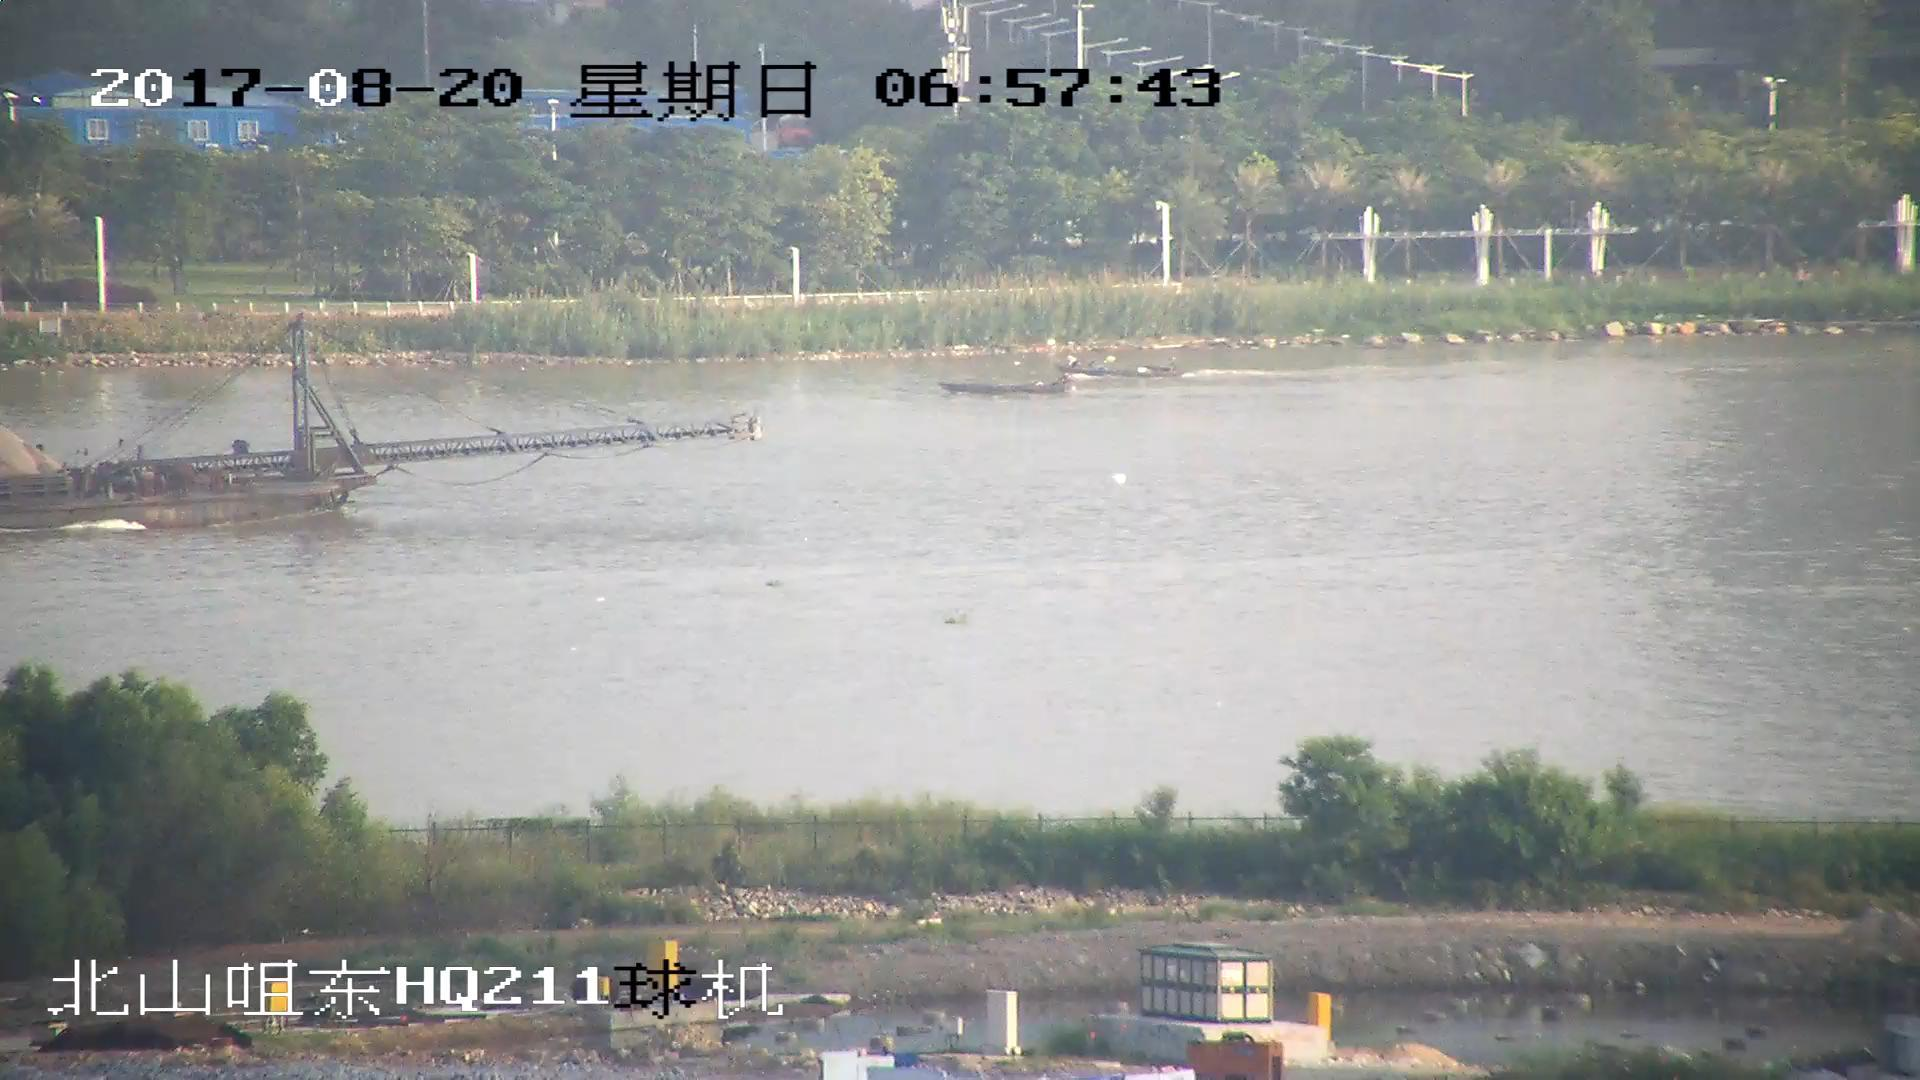Ship: (3, 311, 765, 531), (940, 371, 1080, 405), (1067, 353, 1182, 386)
